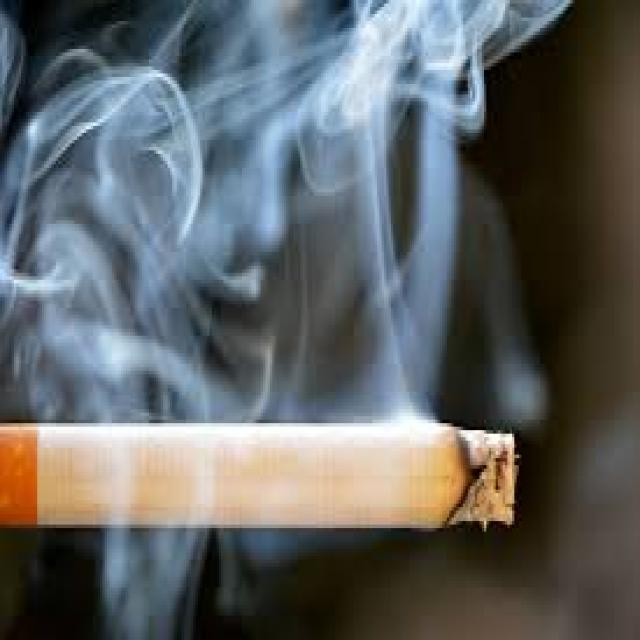rokok: (0, 419, 520, 531)
